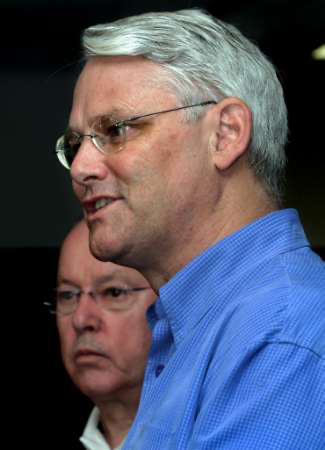Face: (56, 57, 222, 257), (55, 216, 160, 398)
